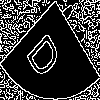D: (25, 24, 67, 83)
